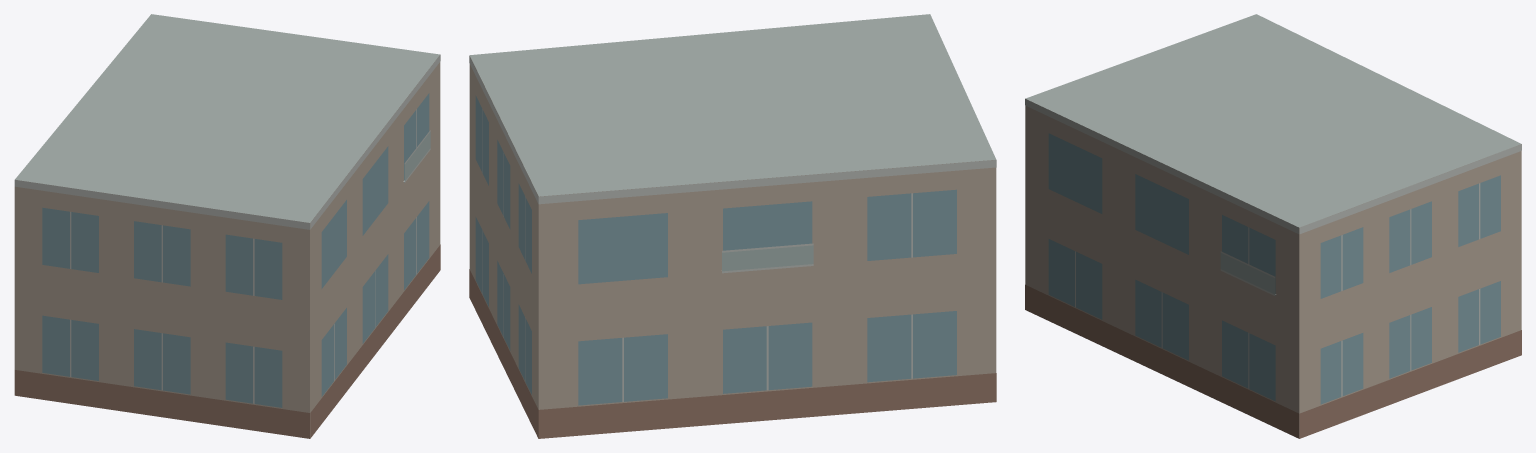
Rendered from survey-upis-32628727.glb.
The picture shows the model from 3 angles, left to right: view 1: azimuth 30°, elevation 25°; view 2: azimuth 150°, elevation 25°; view 3: azimuth 270°, elevation 25°; orthographic projection. The views are drawn at different scales.
Parts seen in each view (by area): view 1: survey-upis-32628727.tmp; view 2: survey-upis-32628727.tmp; view 3: survey-upis-32628727.tmp.
Part boxes in pixels (<box>): survey-upis-32628727.tmp: <box>14,14,440,438</box>; survey-upis-32628727.tmp: <box>469,14,996,438</box>; survey-upis-32628727.tmp: <box>1025,14,1521,438</box>.
Size of the model in its own units: 16.5 by 7.6 by 16.21.
